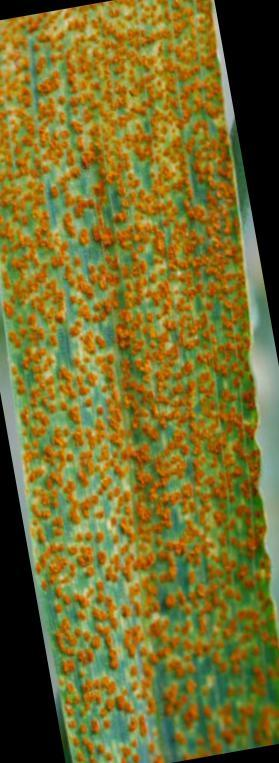Wheat: (3, 200, 228, 375), (86, 540, 267, 740), (5, 28, 220, 179), (25, 386, 239, 519)
